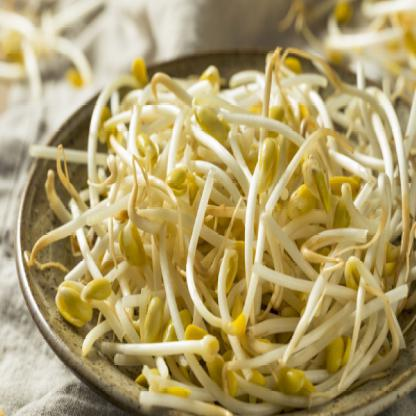bean sprouts: (98, 65, 416, 415)
